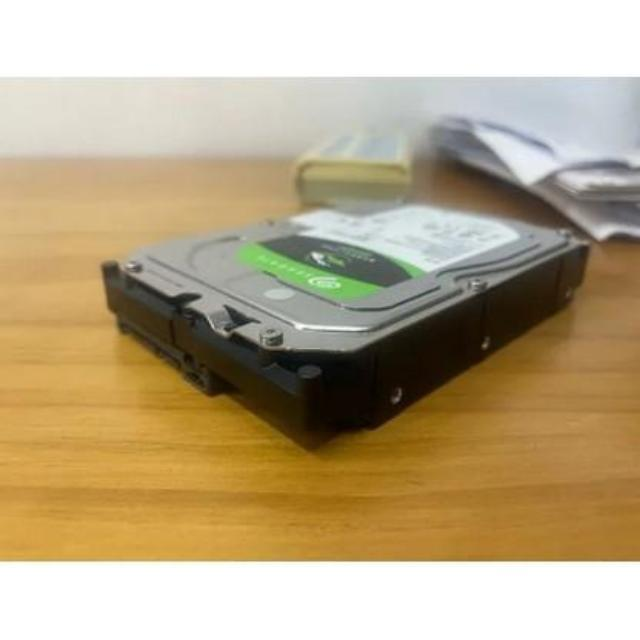DISK: (100, 190, 594, 450)
